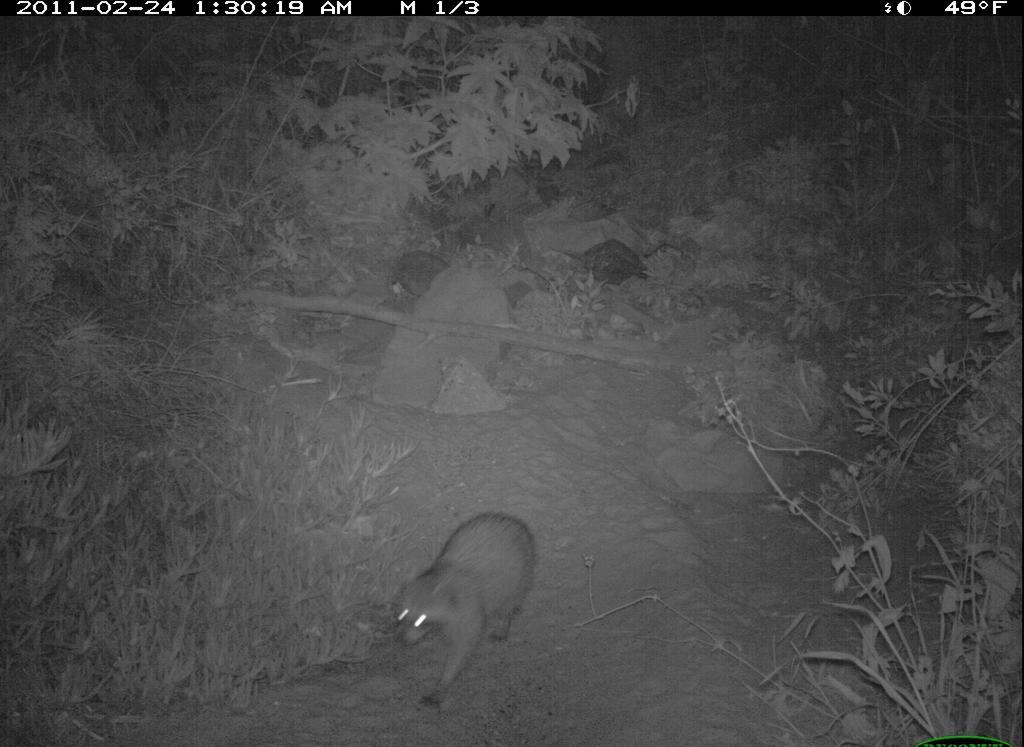raccoon: (378, 506, 551, 726)
